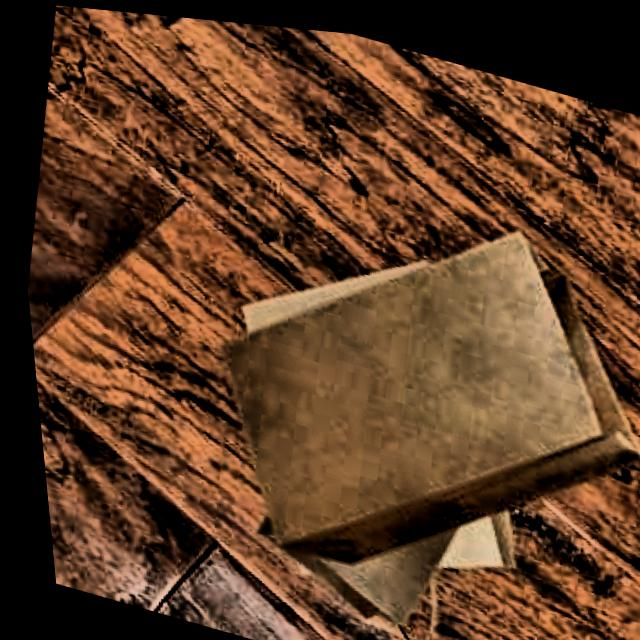Paper-bag: (143, 128, 640, 640), (177, 212, 580, 640)
